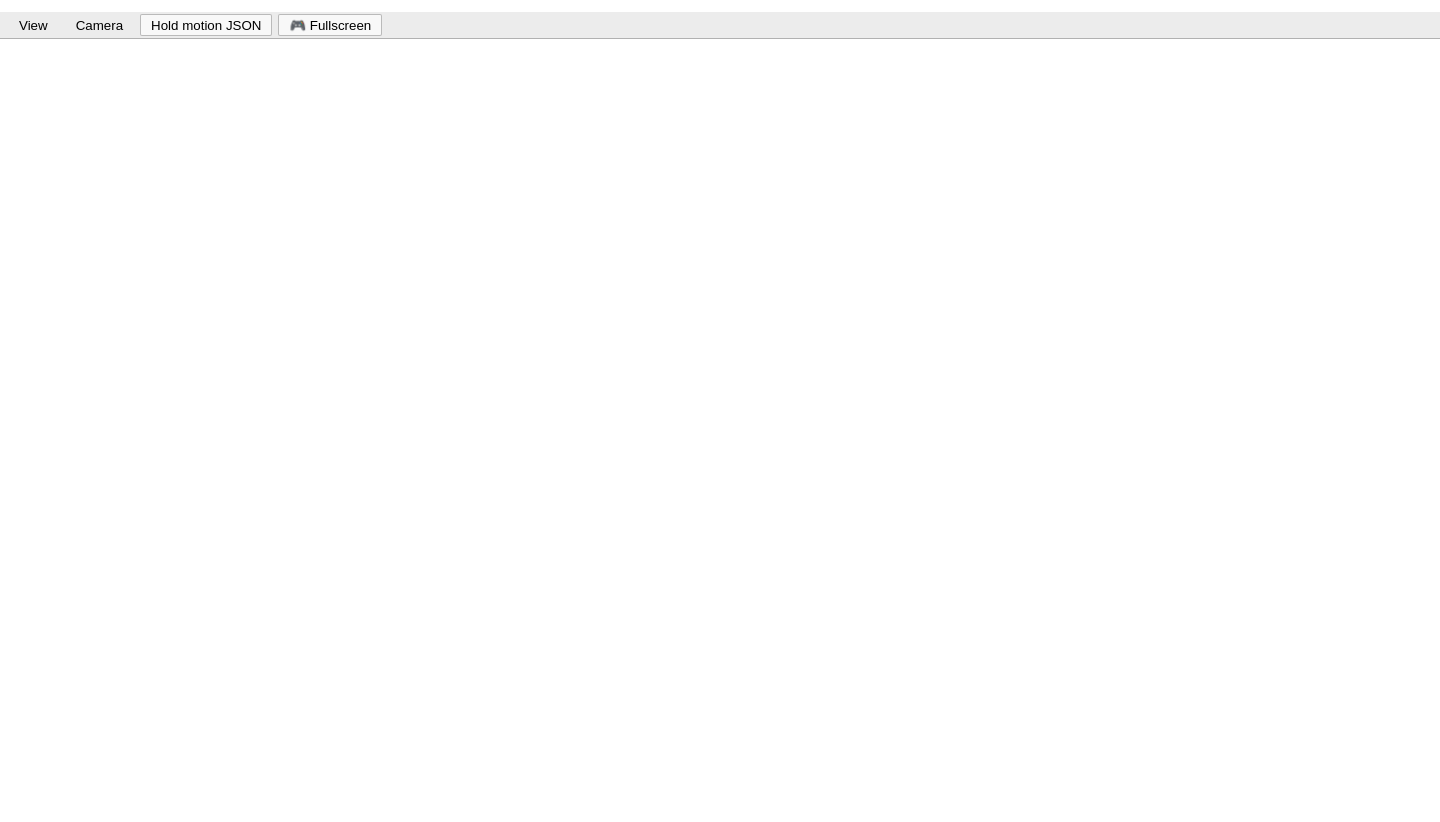
TopMenuBar › closes the menu on outside click
This screenshot has width=1440, height=822.
Click the button with test id "top-menu-view": (33, 25) [8,14,59,36]
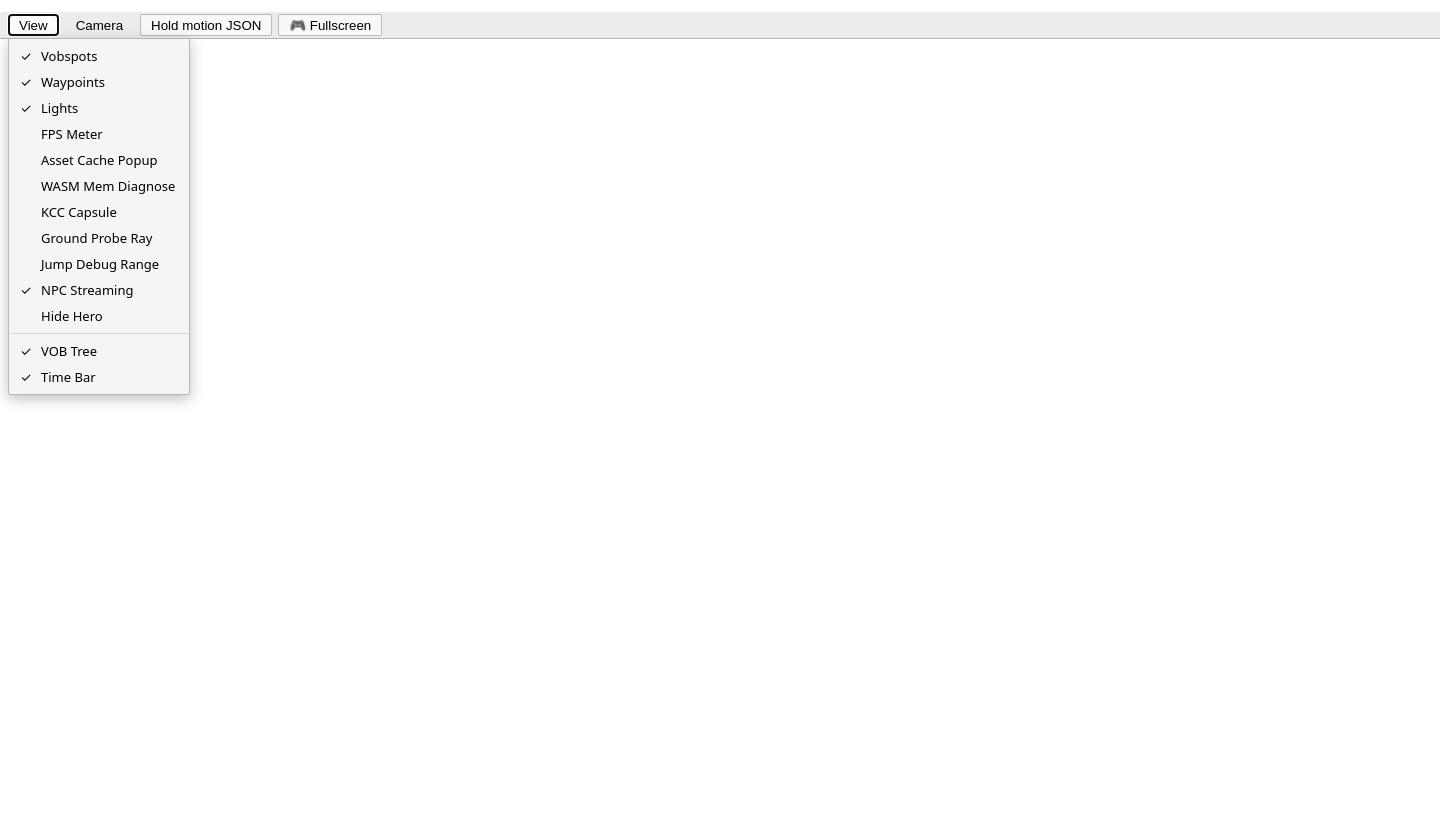
Expected: the menu is shown, [8,38,190,395]
Click the element that starts with "View": (720, 417) [0,12,1439,821]
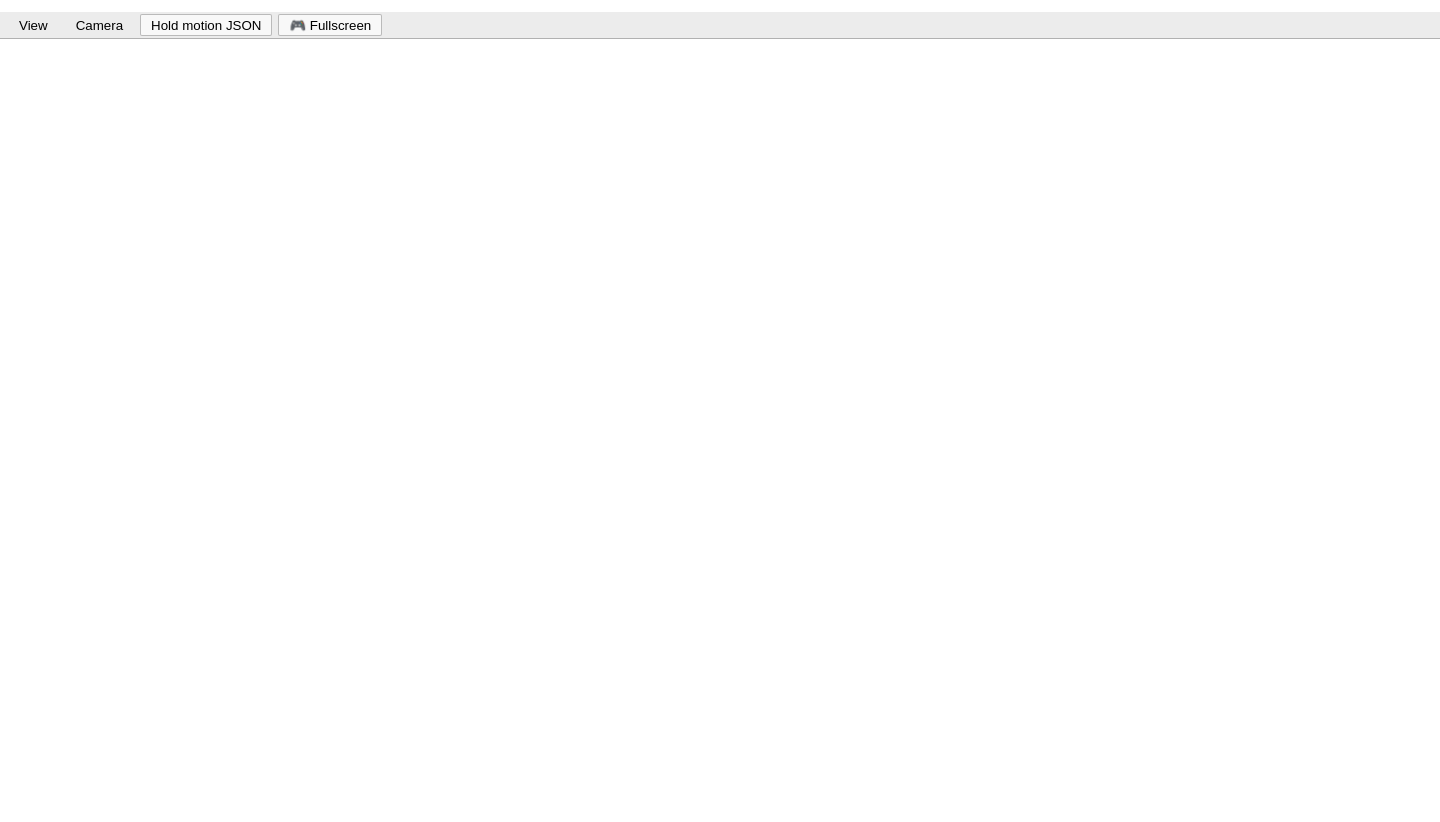
Expected: the menu is gone
